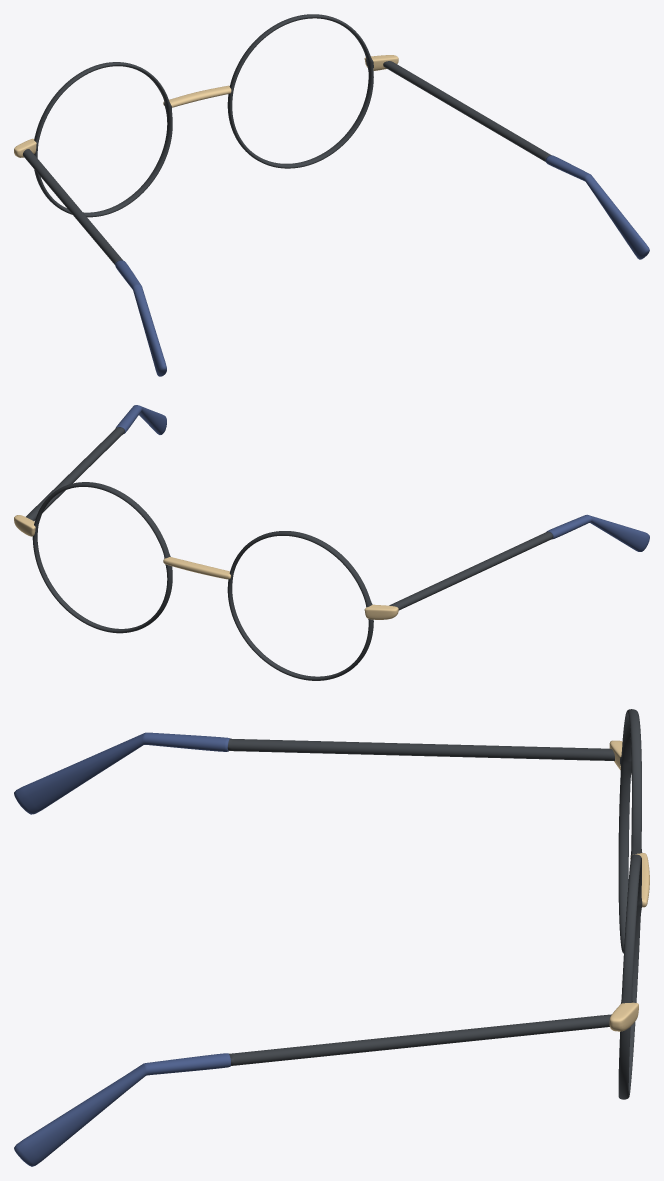
Rendered from round_frame.fbx.
The picture shows the model from 3 angles, top to bottom: view 1: azimuth 30°, elevation 25°; view 2: azimuth 150°, elevation 25°; view 3: azimuth 270°, elevation 25°; orthographic projection. The views are drawn at different scales.
Visible parts, largest first — view 1: frame.000; view 2: frame.000; view 3: frame.000.
Boxes of the visible parts, x1,y1,x2,y2 form: frame.000: (14,14,649,376); frame.000: (14,405,649,680); frame.000: (14,709,649,1166).
Bounding box in the file's own units: 17.19 × 4.96 × 12.85.
